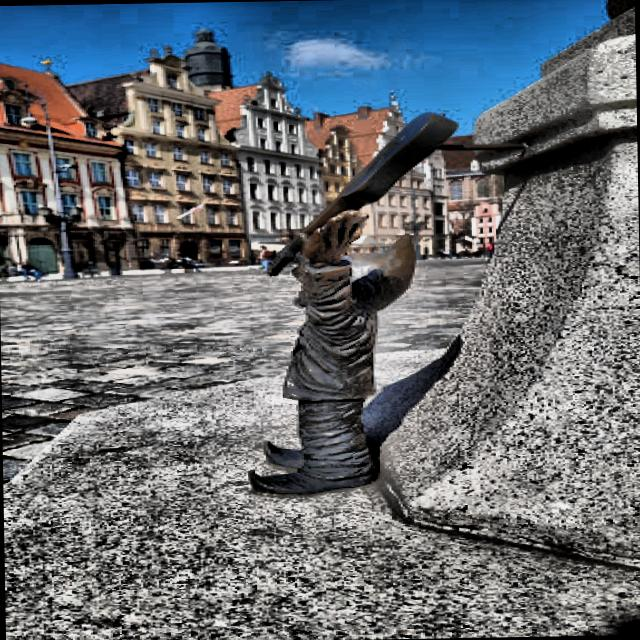Leszko_z_Wroclawia: (250, 114, 454, 495)
